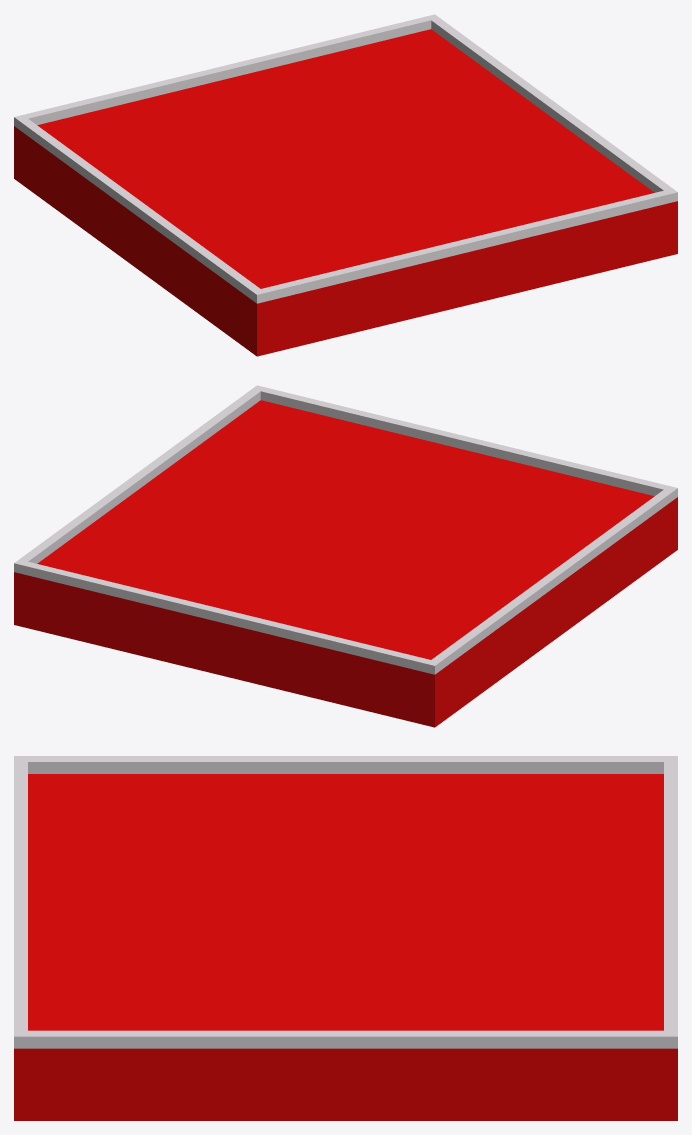
The model's file is full_border.glb.
The picture shows the model from 3 angles, top to bottom: view 1: azimuth 30°, elevation 25°; view 2: azimuth 150°, elevation 25°; view 3: azimuth 270°, elevation 25°; orthographic projection. The views are drawn at different scales.
Visible parts, largest first — view 1: full_border, center.001; view 2: full_border, center.001; view 3: full_border, center.001.
Part boxes in pixels (x1=…): full_border: x1=14, y1=29, x2=677, y2=356; center.001: x1=14, y1=14, x2=677, y2=303; full_border: x1=14, y1=400, x2=677, y2=727; center.001: x1=14, y1=385, x2=677, y2=674; full_border: x1=14, y1=774, x2=677, y2=1120; center.001: x1=14, y1=756, x2=677, y2=1048.
Bounding box in the file's own units: 1 × 0.14 × 1.
